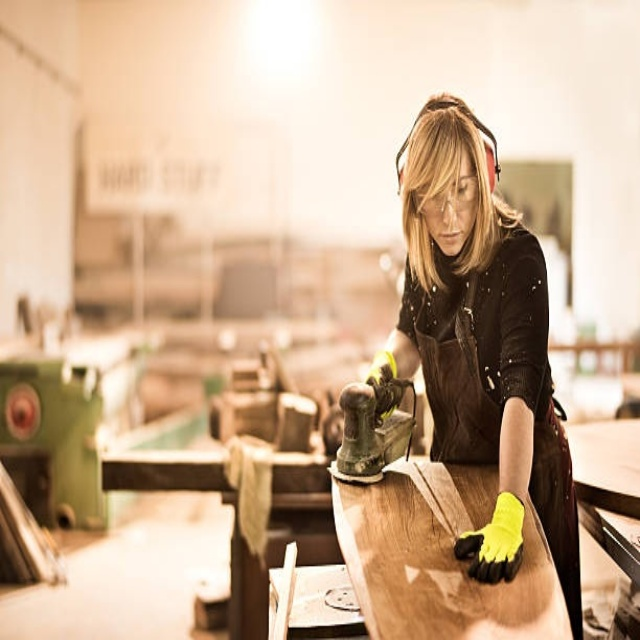Gafas: (422, 177, 478, 213)
Guantes: (453, 492, 526, 583), (365, 350, 398, 420)
Sin_mascara: (433, 223, 464, 251)
